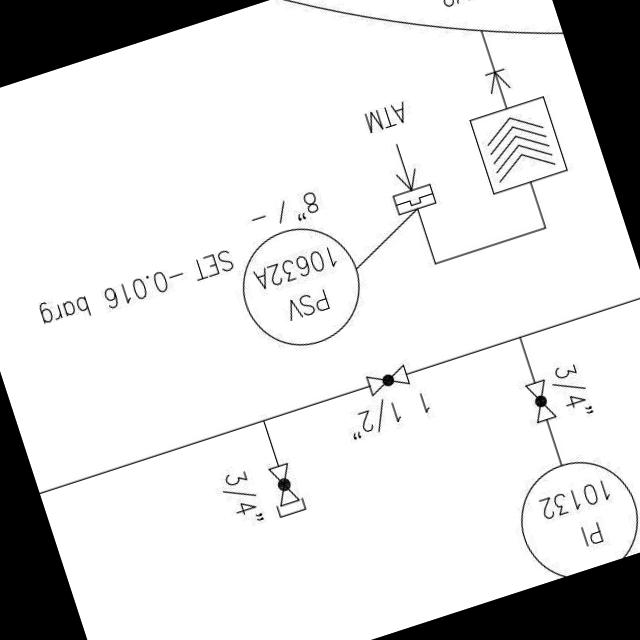BV2: (519, 372, 564, 430), (362, 360, 416, 401), (266, 460, 302, 511)
EC: (250, 433, 312, 525)
